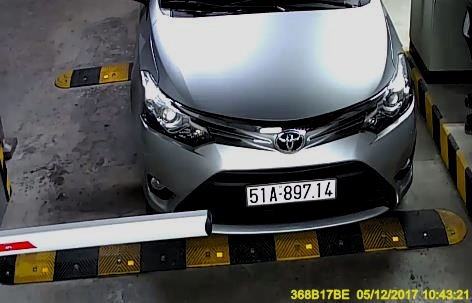plate: (244, 178, 339, 207)
